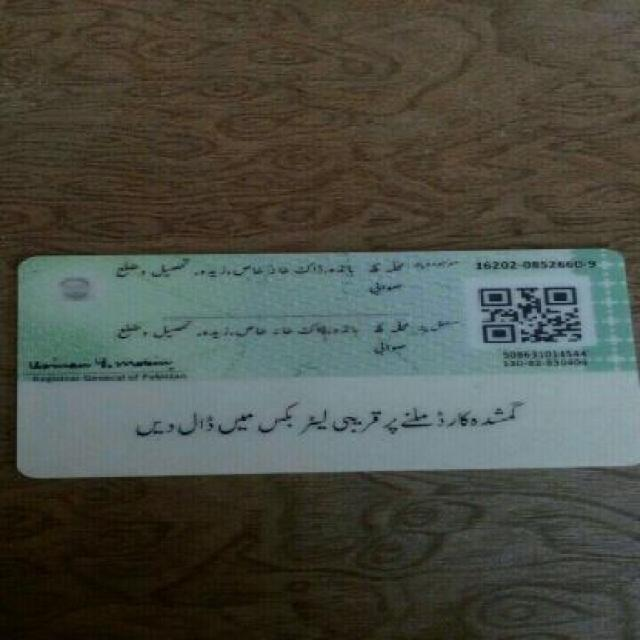Back: (15, 246, 640, 477)
